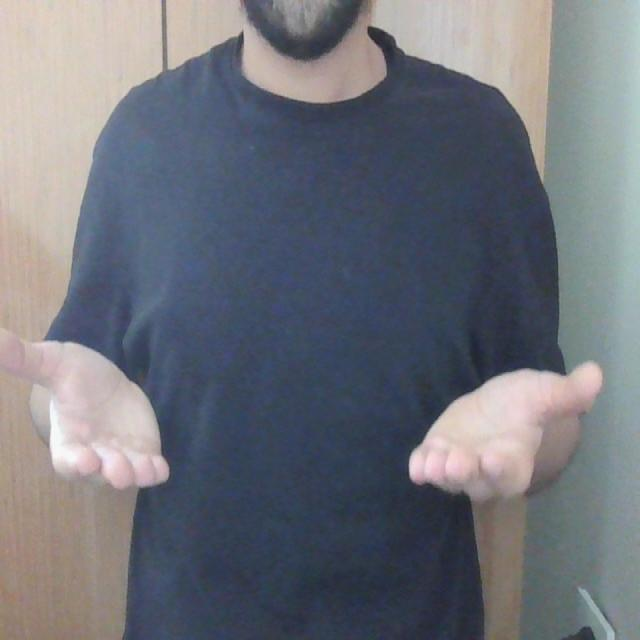Evet: (0, 322, 609, 510)
